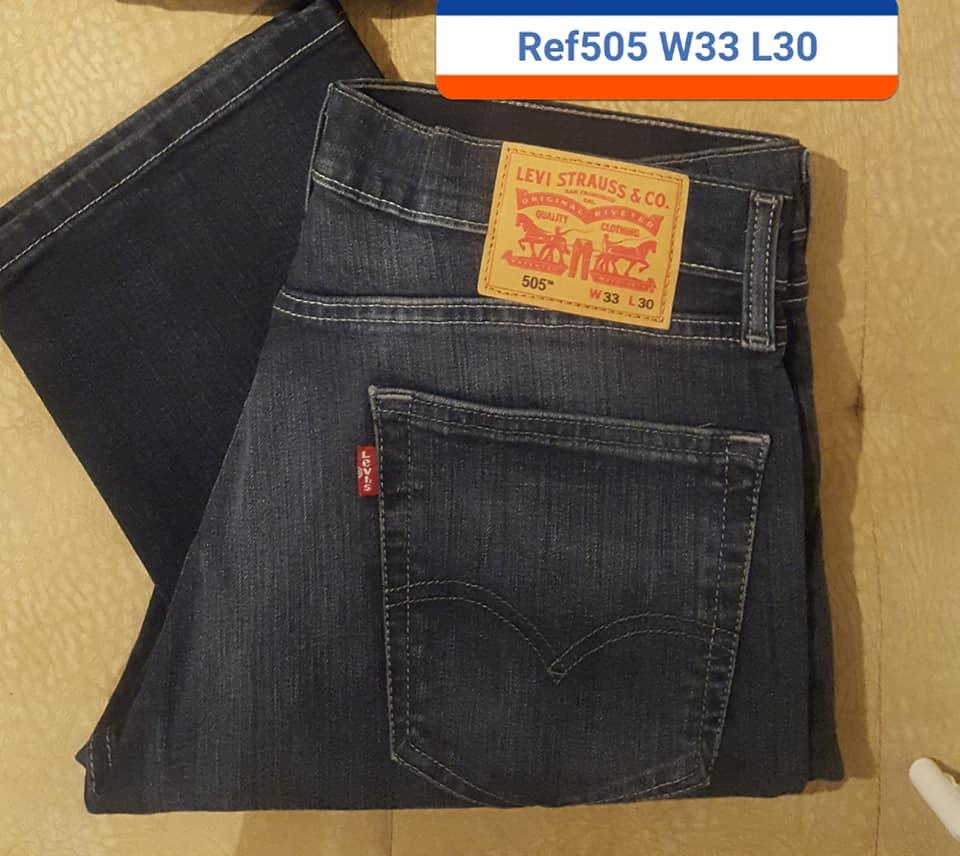Jeans: (0, 0, 858, 827)
